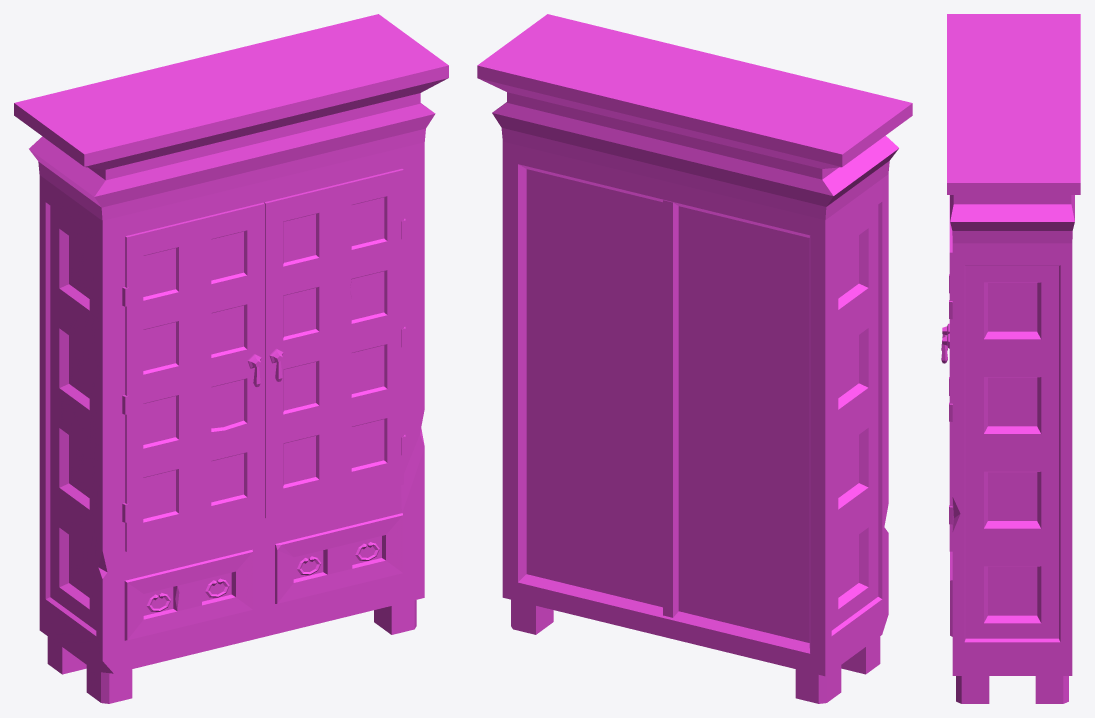
The model's file is SM_Closet_Fancy_B_Fantasy.fbx.
The picture shows the model from 3 angles, left to right: view 1: azimuth 30°, elevation 25°; view 2: azimuth 150°, elevation 25°; view 3: azimuth 270°, elevation 25°; orthographic projection. The views are drawn at different scales.
Parts seen in each view (by area): view 1: SM_Closet_Fancy_B_Fantasy_Base, SM_Closet_Fancy_B_Fantasy_Door_L, SM_Closet_Fancy_B_Fantasy_Door_R, SM_Closet_Fancy_B_Fantasy_Drawer_L, SM_Closet_Fancy_B_Fantasy_Drawer_R; view 2: SM_Closet_Fancy_B_Fantasy_Base; view 3: SM_Closet_Fancy_B_Fantasy_Base, SM_Closet_Fancy_B_Fantasy_Door_R, SM_Closet_Fancy_B_Fantasy_Drawer_R.
Part boxes in pixels (x1,y1,x2,y2): SM_Closet_Fancy_B_Fantasy_Base: (14,14,448,703); SM_Closet_Fancy_B_Fantasy_Door_L: (122,202,264,551); SM_Closet_Fancy_B_Fantasy_Door_R: (264,169,405,518); SM_Closet_Fancy_B_Fantasy_Drawer_L: (124,549,252,640); SM_Closet_Fancy_B_Fantasy_Drawer_R: (275,513,402,603); SM_Closet_Fancy_B_Fantasy_Base: (477,14,912,703); SM_Closet_Fancy_B_Fantasy_Base: (947,14,1080,703); SM_Closet_Fancy_B_Fantasy_Door_R: (941,195,952,551); SM_Closet_Fancy_B_Fantasy_Drawer_R: (950,551,952,636).
Bounding box in the file's own units: 1.5 × 2.2 × 0.521.
